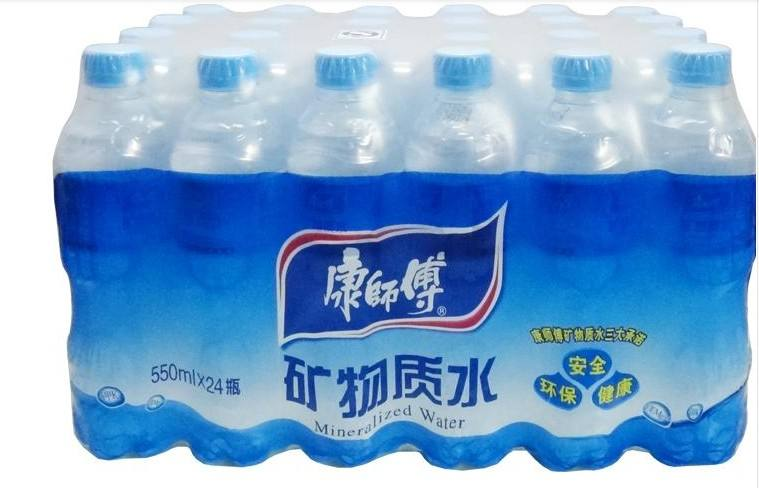amwater: (43, 1, 749, 471)
